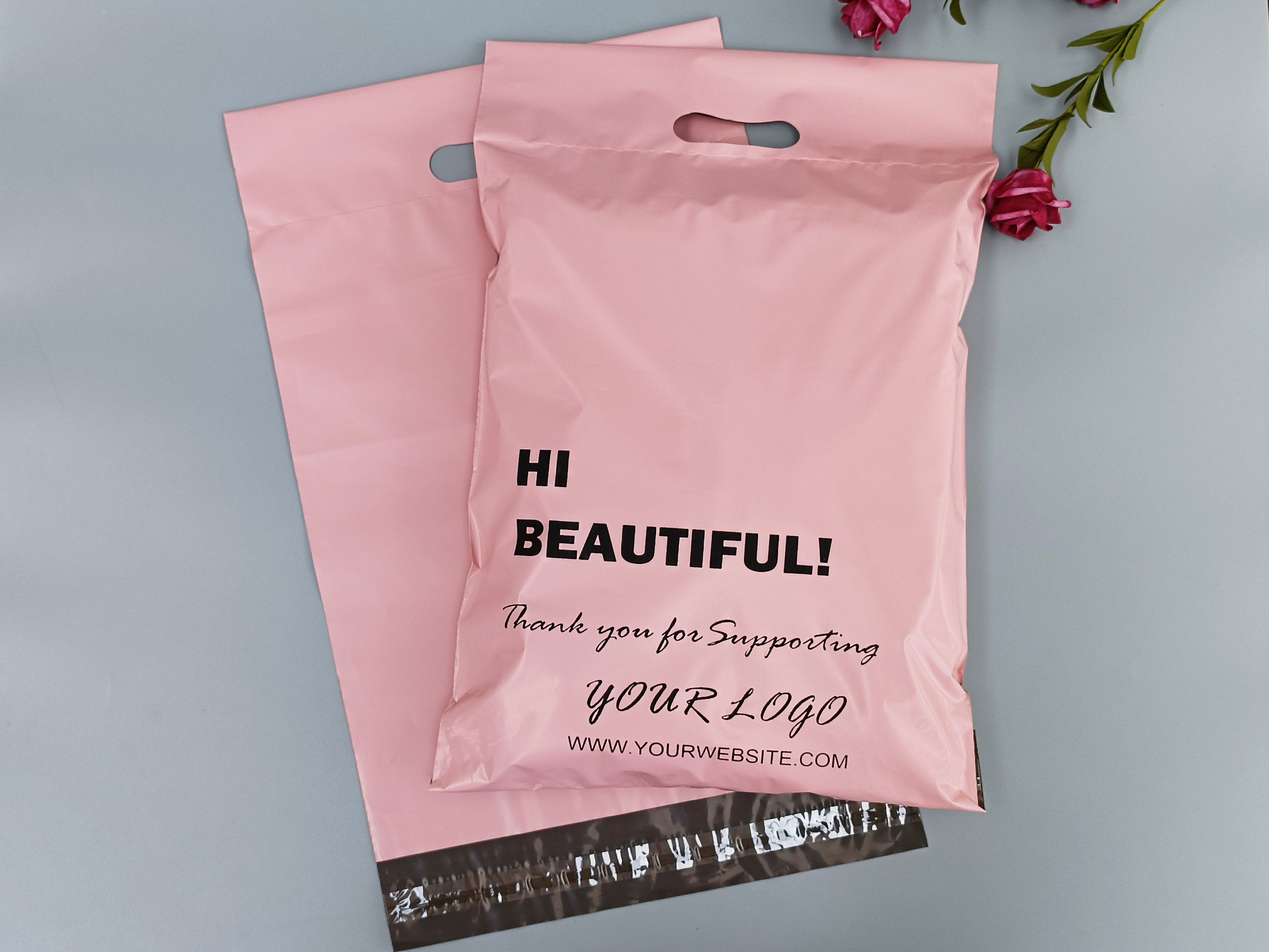塑料袋: (226, 19, 998, 944)
